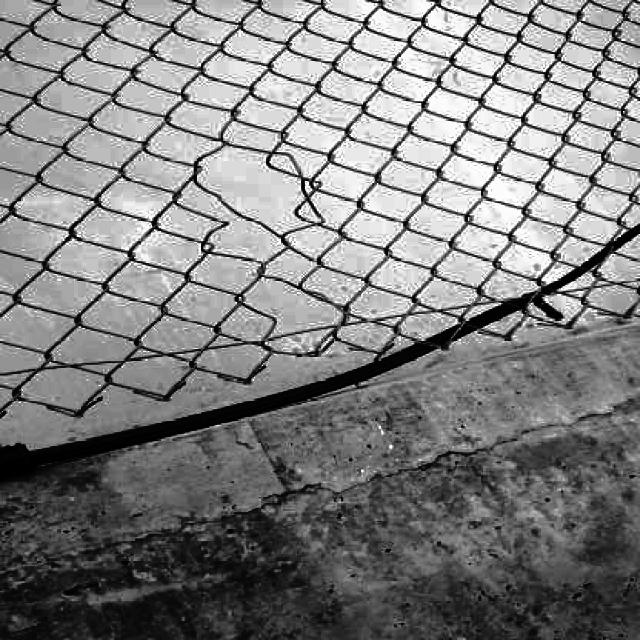anomaly-fence: (0, 324, 629, 448), (180, 96, 370, 288)
